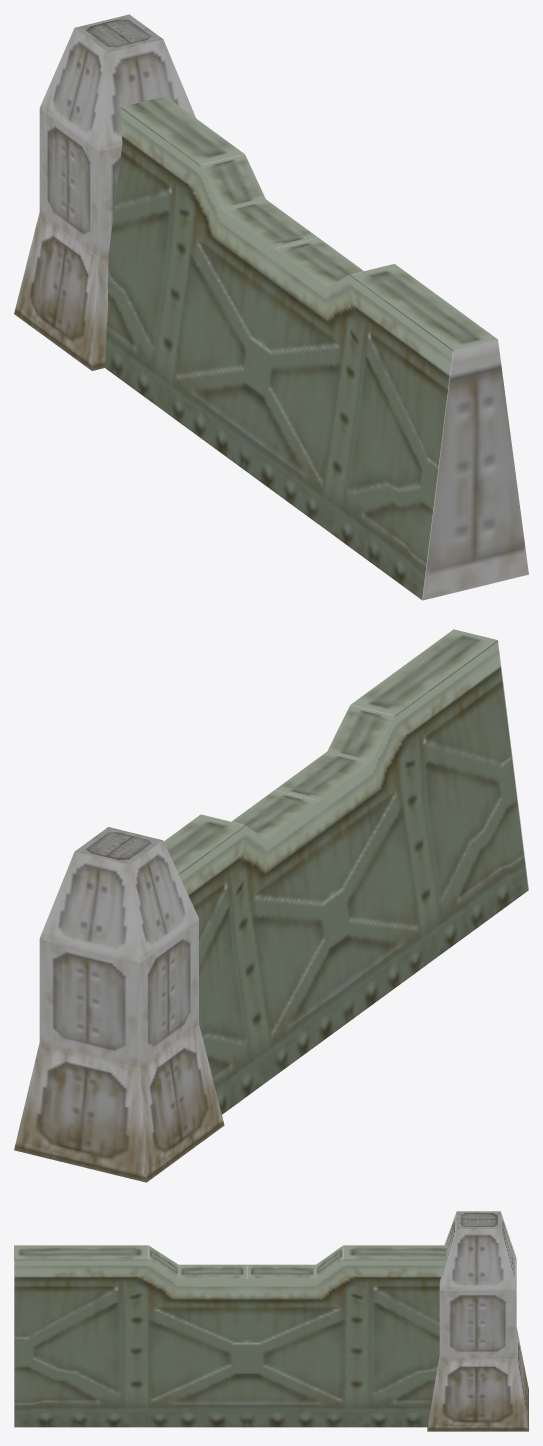
File: l_mediumwall.glb
3 renders of one model, top to bottom at view 1: azimuth 30°, elevation 25°; view 2: azimuth 150°, elevation 25°; view 3: azimuth 270°, elevation 25°, orthographic. The views are drawn at different scales.
Parts seen in each view (by area): view 1: L_MediumWall; view 2: L_MediumWall; view 3: L_MediumWall.
Part boxes in pixels (bbox=[...]): L_MediumWall: bbox=[14, 14, 528, 600]; L_MediumWall: bbox=[14, 629, 528, 1182]; L_MediumWall: bbox=[14, 1211, 528, 1431].
Size of the model in its own units: 5.49 by 11.57 by 28.36.
Materials: 1 (1 with a texture image).
